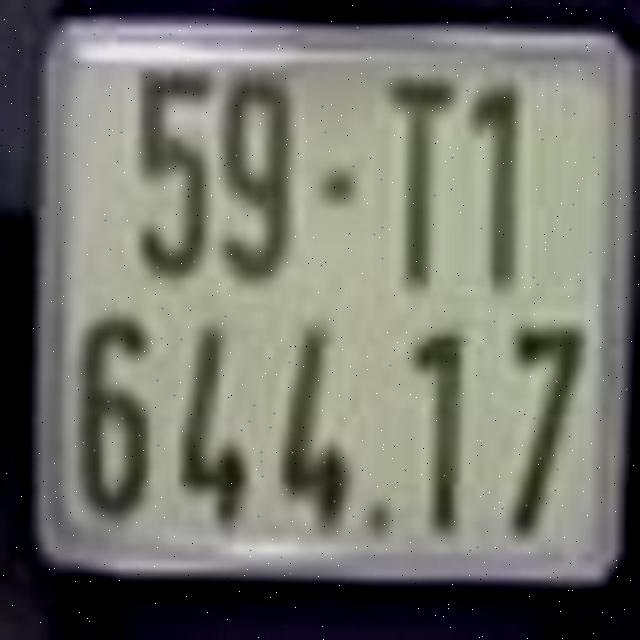1: (470, 78, 525, 288), (411, 327, 467, 532)
4: (178, 318, 248, 527), (281, 319, 349, 532)
5: (132, 64, 212, 278)
6: (77, 310, 153, 517)
7: (509, 320, 586, 539)
9: (220, 71, 293, 282)
T: (386, 76, 456, 287)
